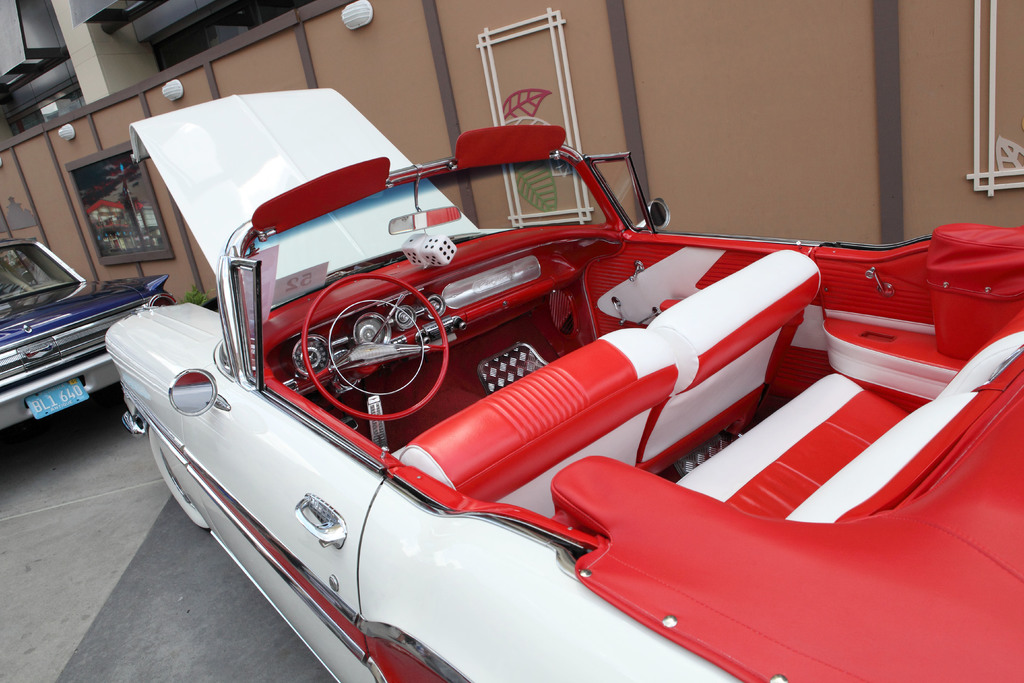Car: (53, 99, 905, 659), (0, 235, 170, 433)
